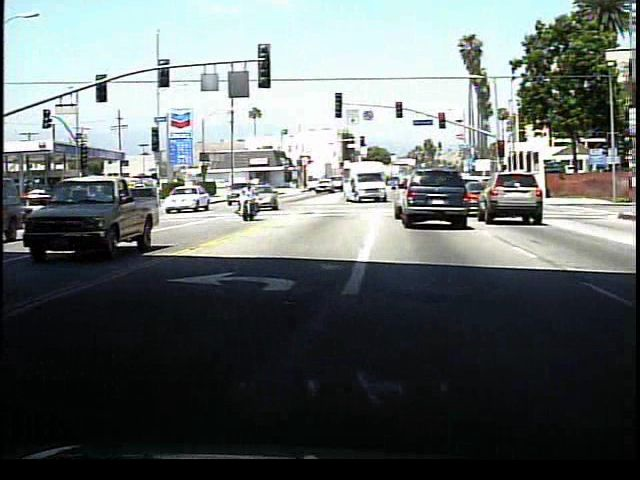person: (237, 182, 259, 224)
